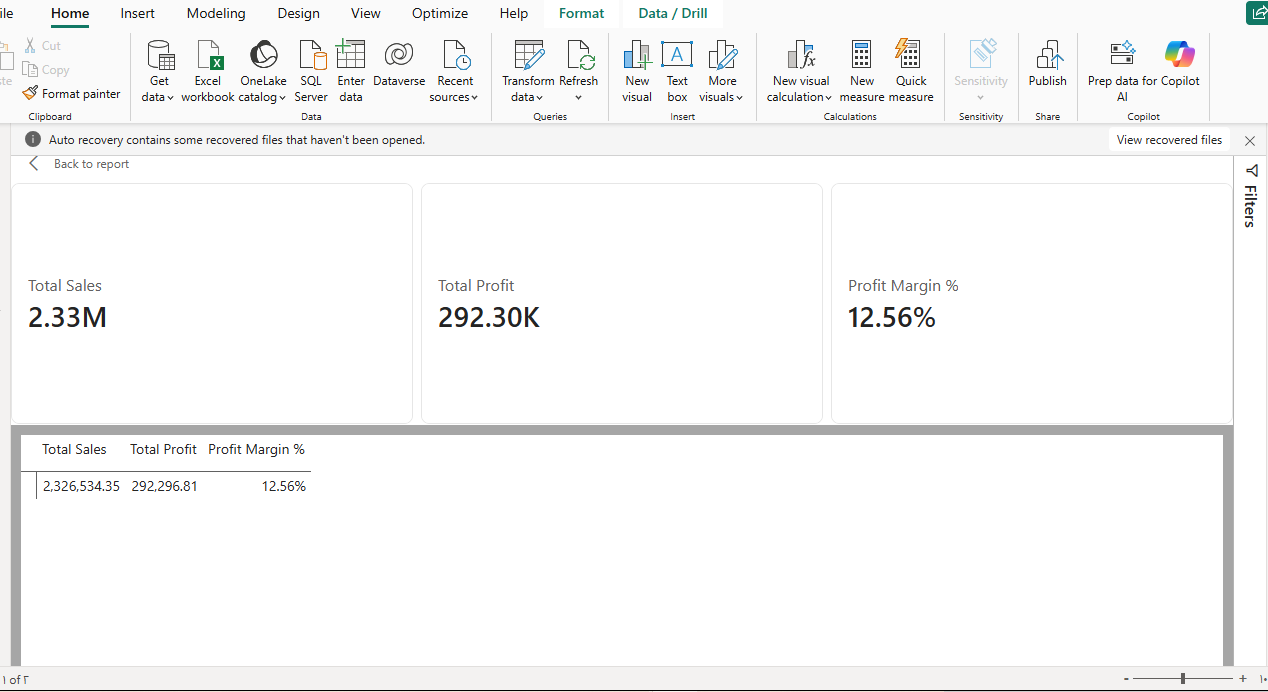

This screenshot's page, from the dashboard's own definition file:
{"tool":"powerbi","page":{"name":"Executive Overview","canvas":[1920,1080],"ordinal":0},"visuals":[{"type":"cardVisual","fields":{"Data":["vw_monthly_regional_category_performance.Total Sales","vw_monthly_regional_category_performance.Total Profit","vw_monthly_regional_category_performance.Profit Margin %"]},"box":[10,0,280,280],"z":500}]}

Visuals, with their boxes on the page's 1920x1080 design canvas (x1, y1, x2, y2). These are canvas units, not pixel positions in the 1268x692 screenshot, which may show the page scaled, cropped or inside an application window:
cardVisual - vw_monthly_regional_category_performance.Total Sales x vw_monthly_regional_category_performance.Total Profit: [x1=10, y1=0, x2=290, y2=280]
